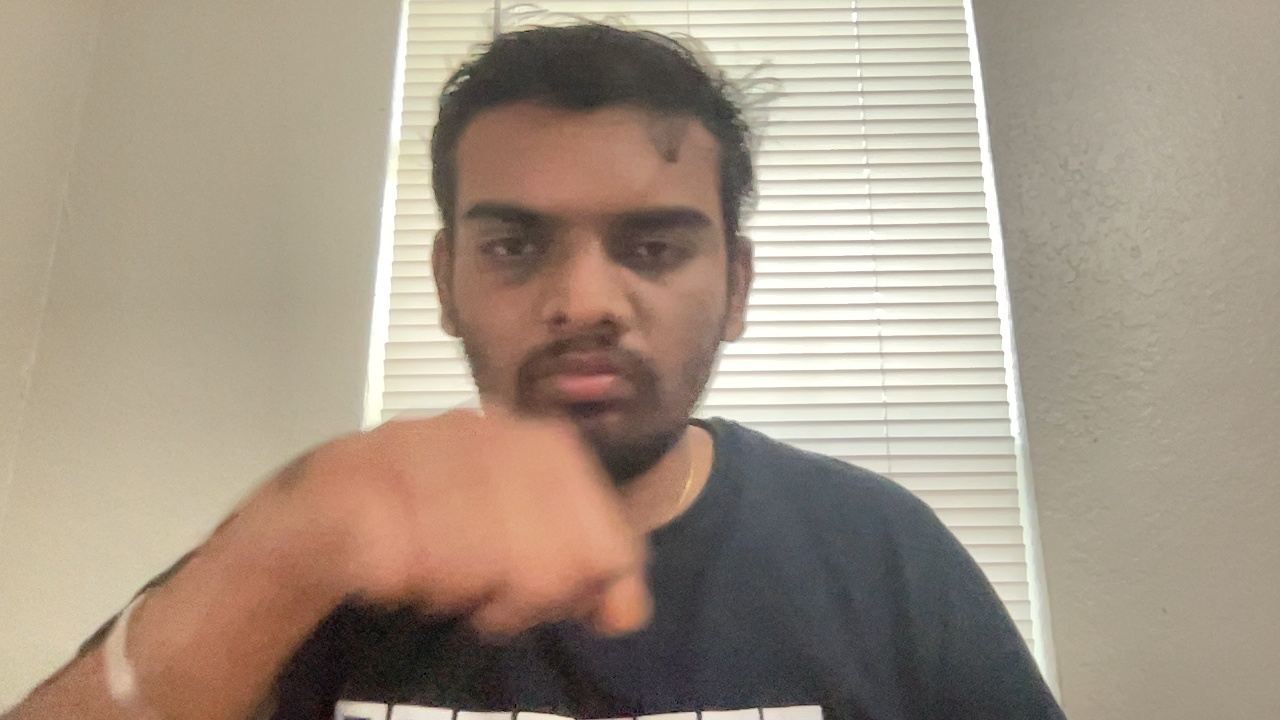yes: (315, 401, 663, 658)
